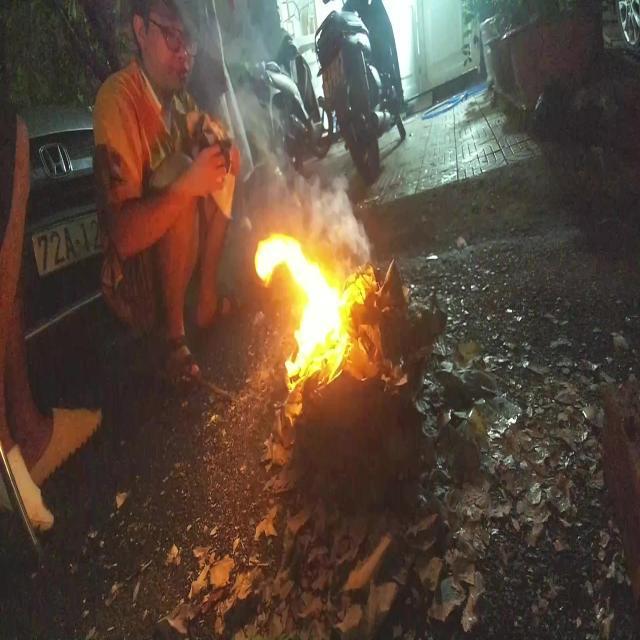Fire: (255, 237, 376, 394)
Smoke: (250, 154, 370, 272)
